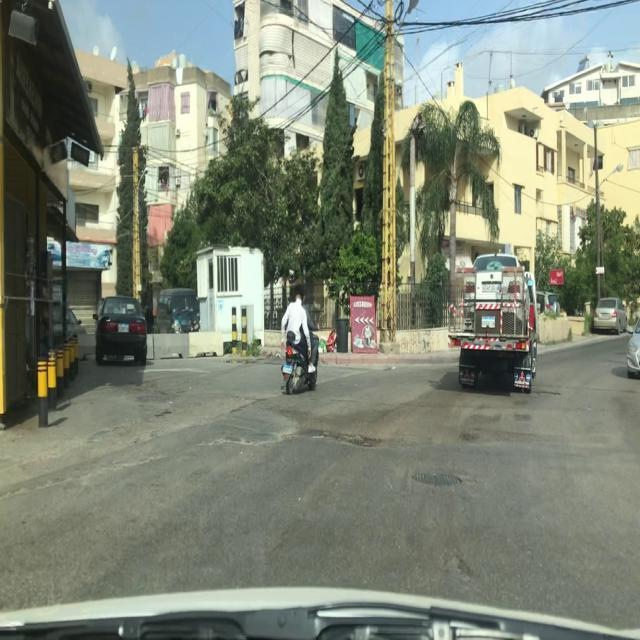pothole: (319, 429, 388, 455), (533, 390, 562, 398)
